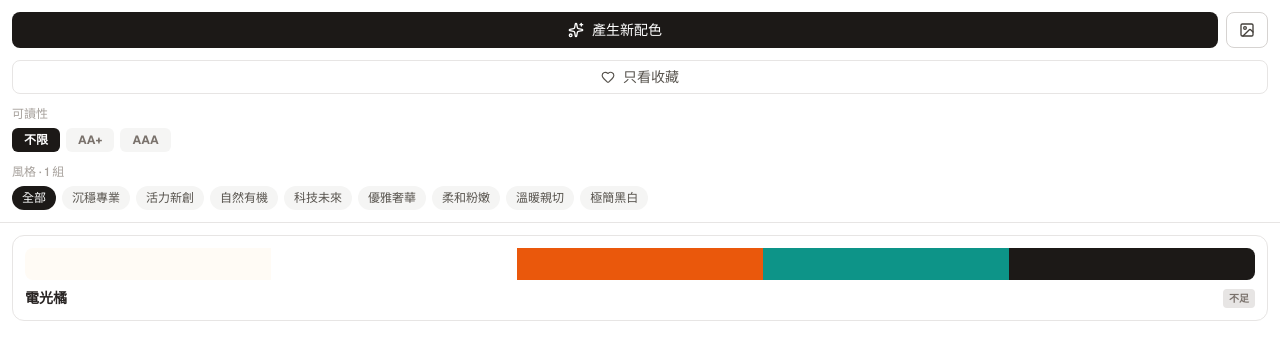
Scenario: PaletteGallery › shows an empty message when AAA filter matches nothing relevant
Click the button "AAA": coordinates (146, 140) [120, 128, 171, 152]
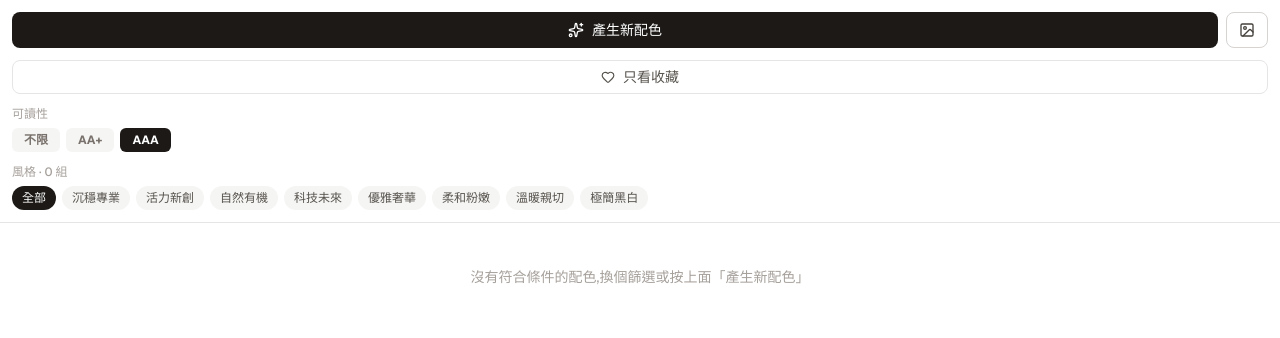
expect the button "電光橘" is gone: met
